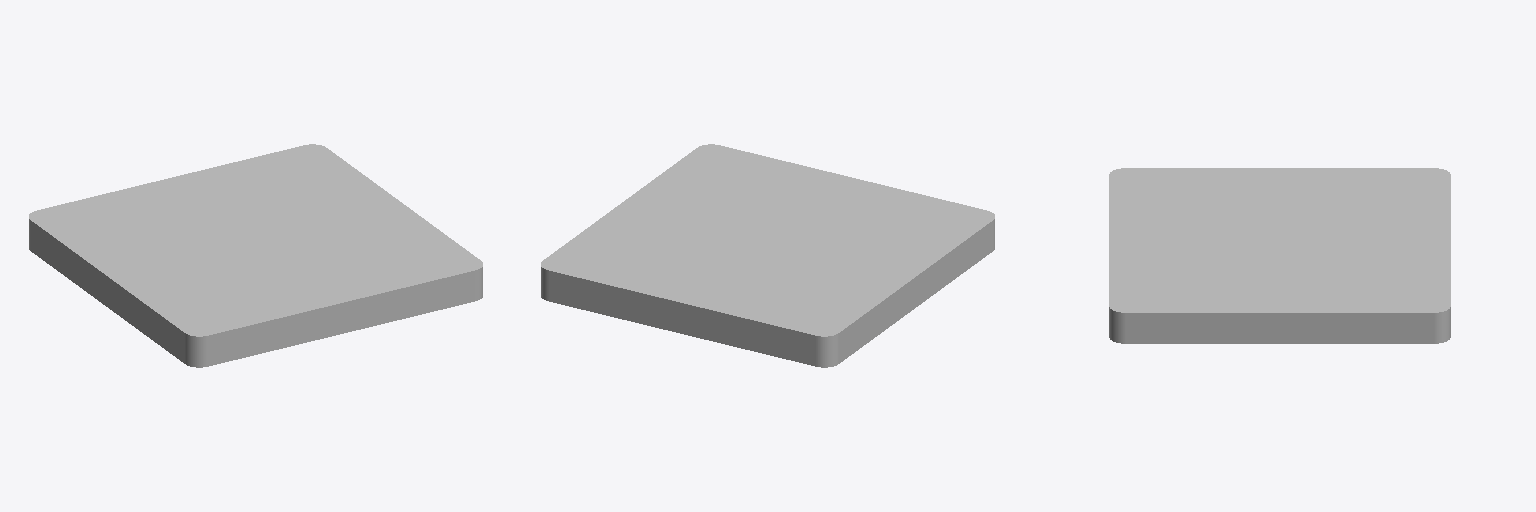
Rendered from game_field.obj.
3 views of the same model, side by side, from view 1: azimuth 30°, elevation 25°; view 2: azimuth 150°, elevation 25°; view 3: azimuth 270°, elevation 25° (orthographic).
Parts seen in each view (by area): view 1: Cube; view 2: Cube; view 3: Cube.
Part boxes in pixels (x1,y1,x2,y2): Cube: (29, 144, 482, 367); Cube: (541, 144, 994, 367); Cube: (1109, 168, 1450, 343).
Bounding box in the file's own units: 100 × 10 × 100.